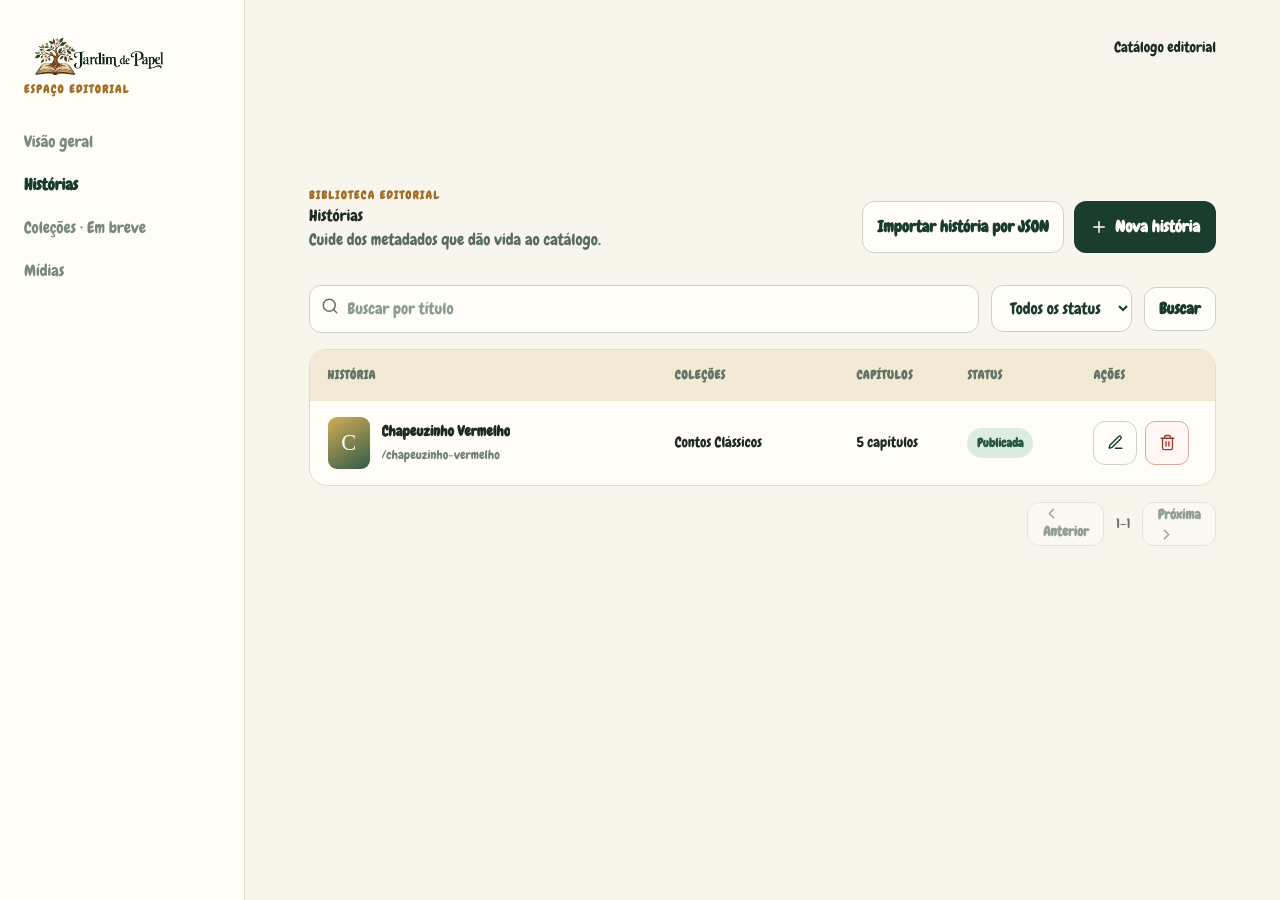
Test: catálogo editorial de histórias › exclui a história publicada após confirmação e atualiza a lista com feedback
This screenshot has width=1280, height=900.
Click the button named "Excluir Chapeuzinho Vermelho".
click(1167, 443)  # box [1145,421,1189,465]
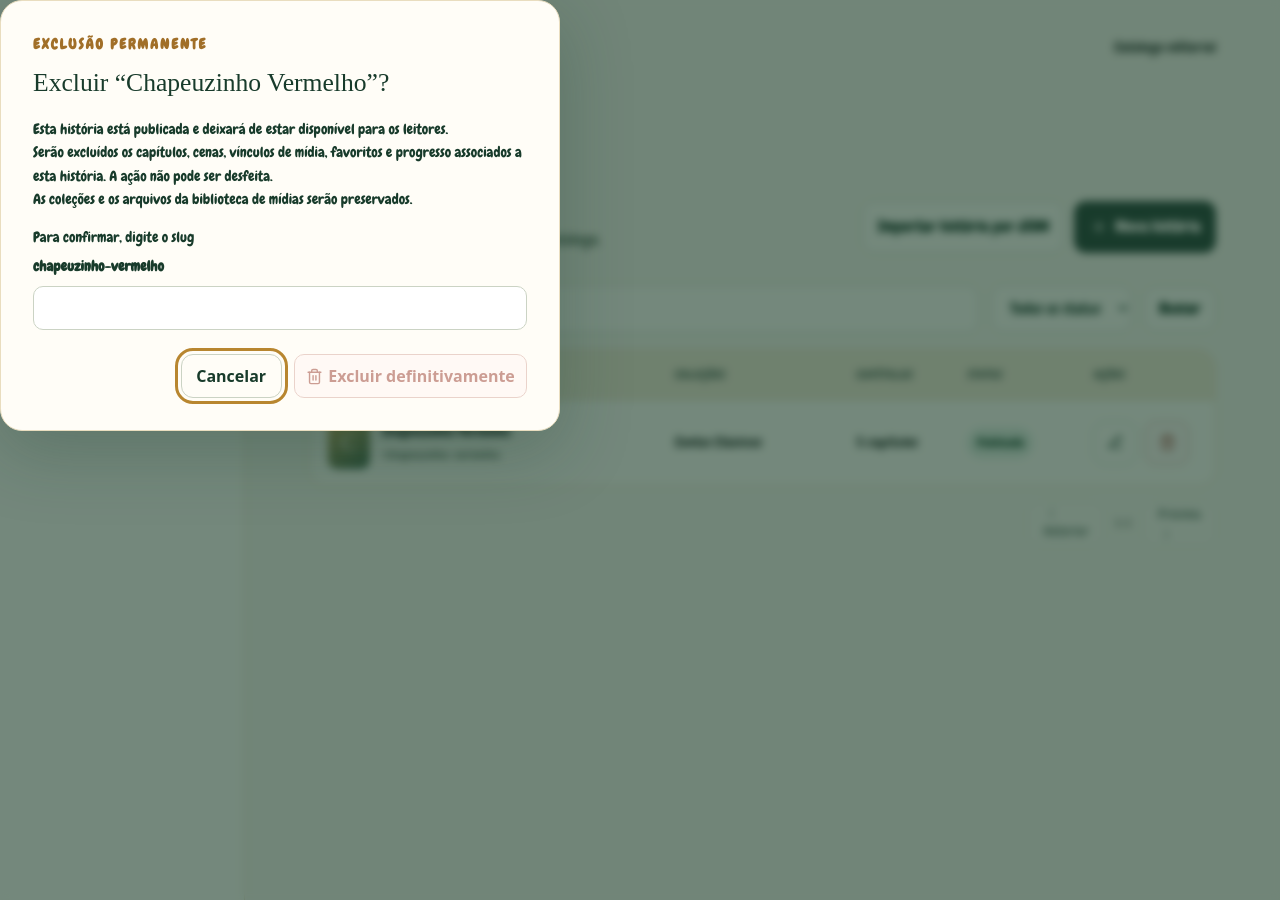
Type "chapeuzinho-vermelho" into the field named "Slug para confirmar exclusão".
click(280, 308); type("chapeuzinho-vermelho")  # box [33,286,527,330]
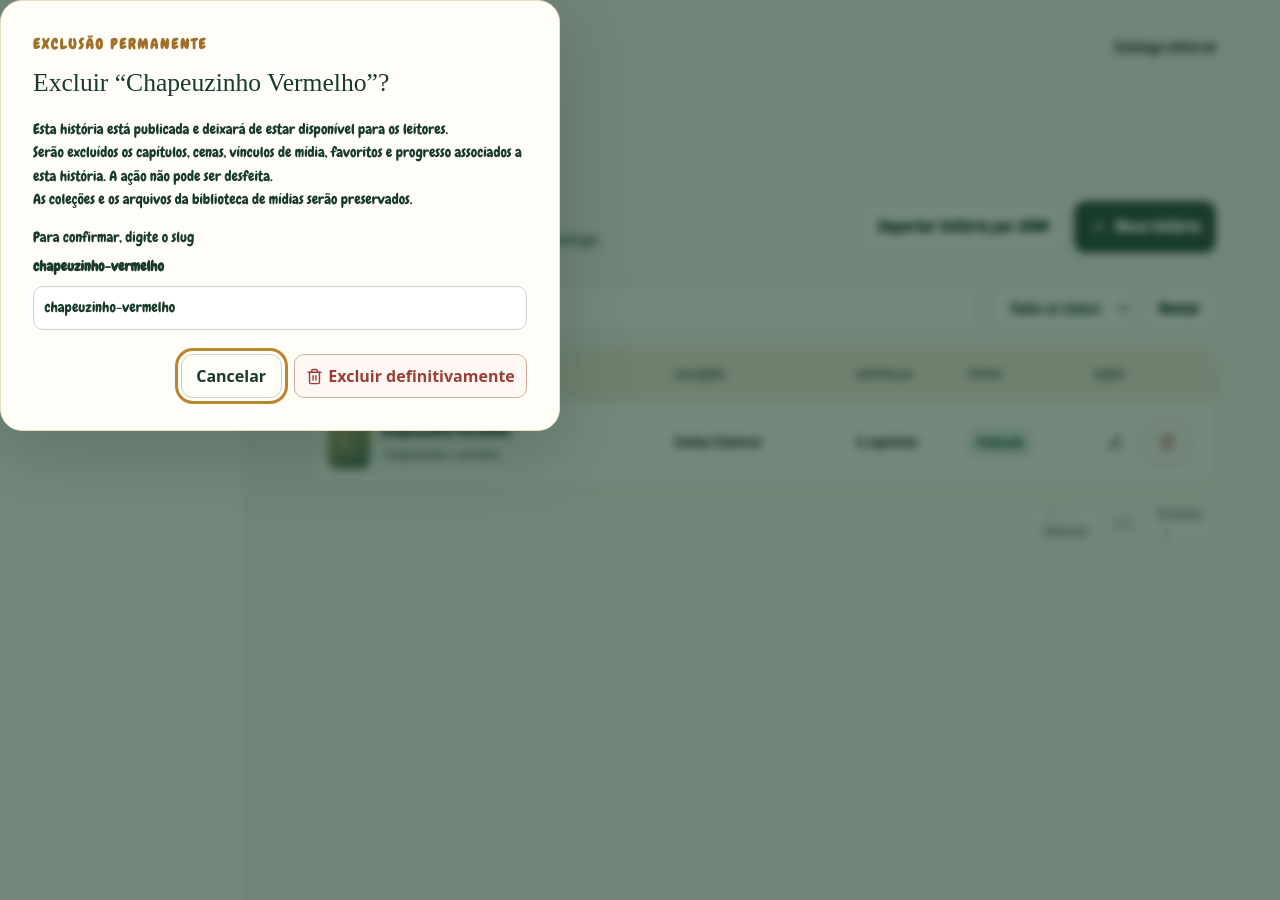
Click the button "Excluir definitivamente".
click(410, 376)  # box [294,354,527,398]
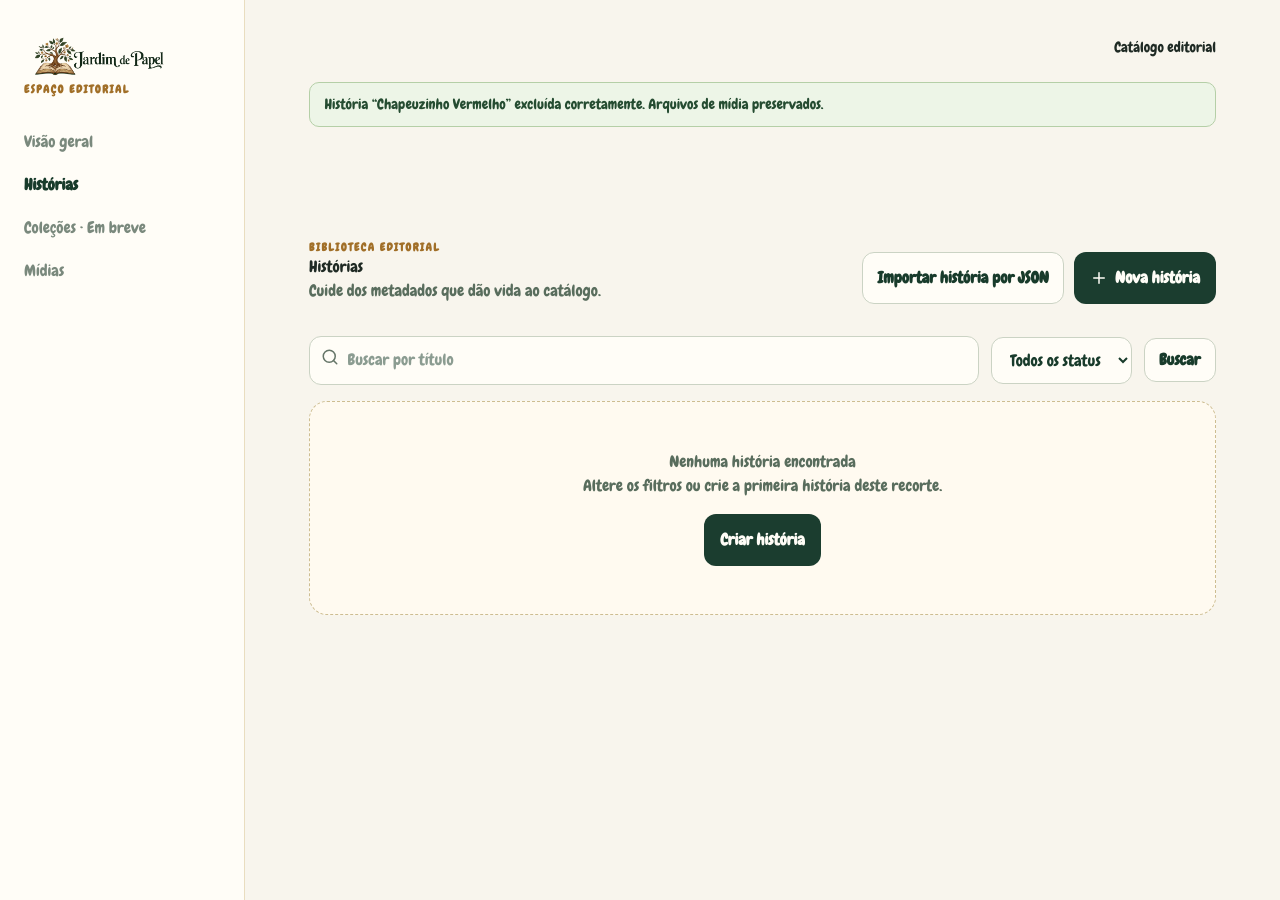
Now the text "excluída corretamente" is shown, box [324,95,823,113]
Now the heading "Nenhuma história encontrada" is shown, box [669,450,856,472]
Now the dialog is gone
